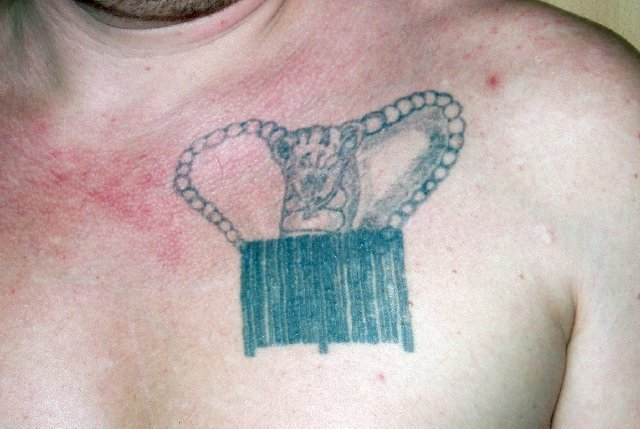tatu7_zmeya: (142, 105, 489, 361)
